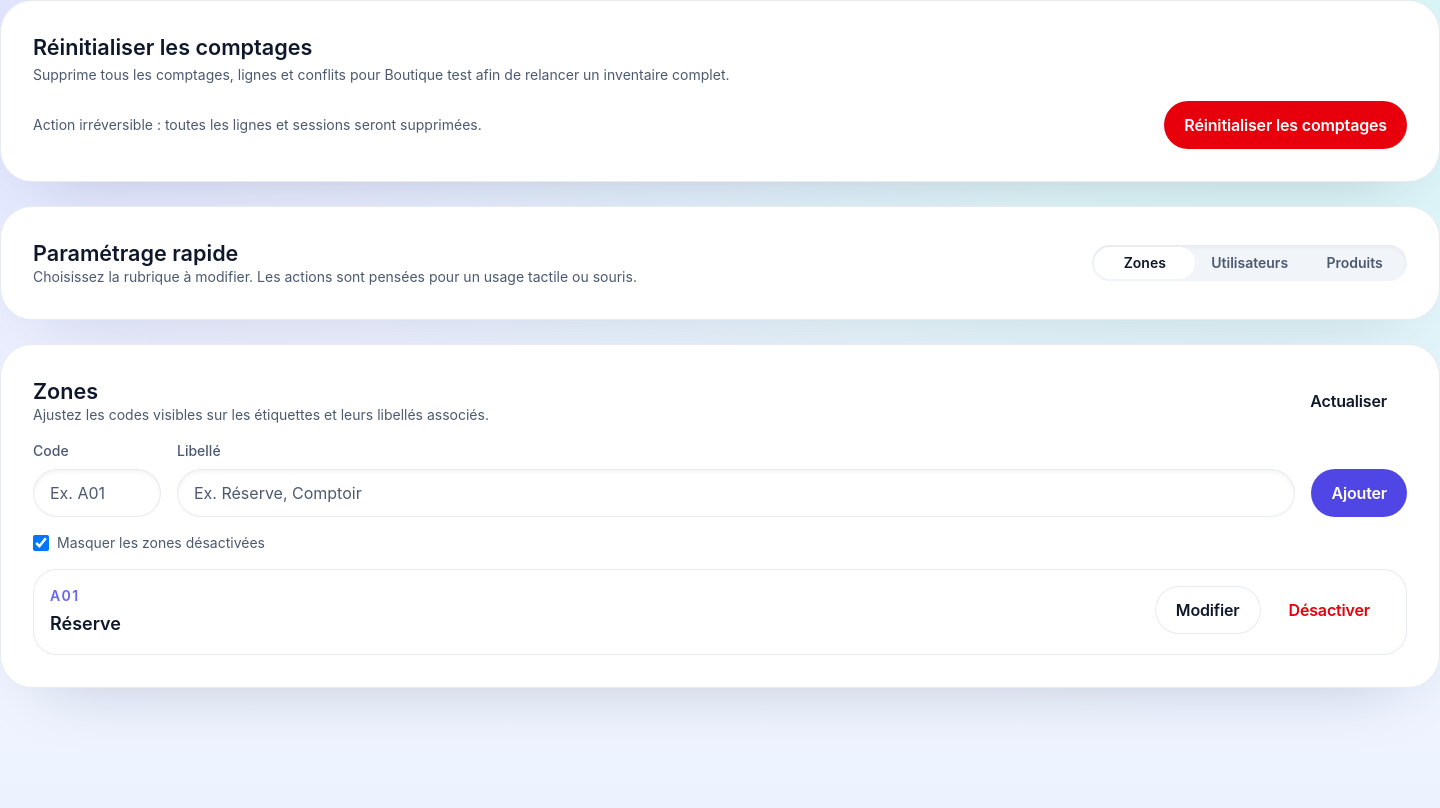
Test: AdminLocationsPage › verrouille le remplacement du catalogue quand des comptages existent
Click the tab "Produits" at (1355, 263), box [1304,247,1405,279]
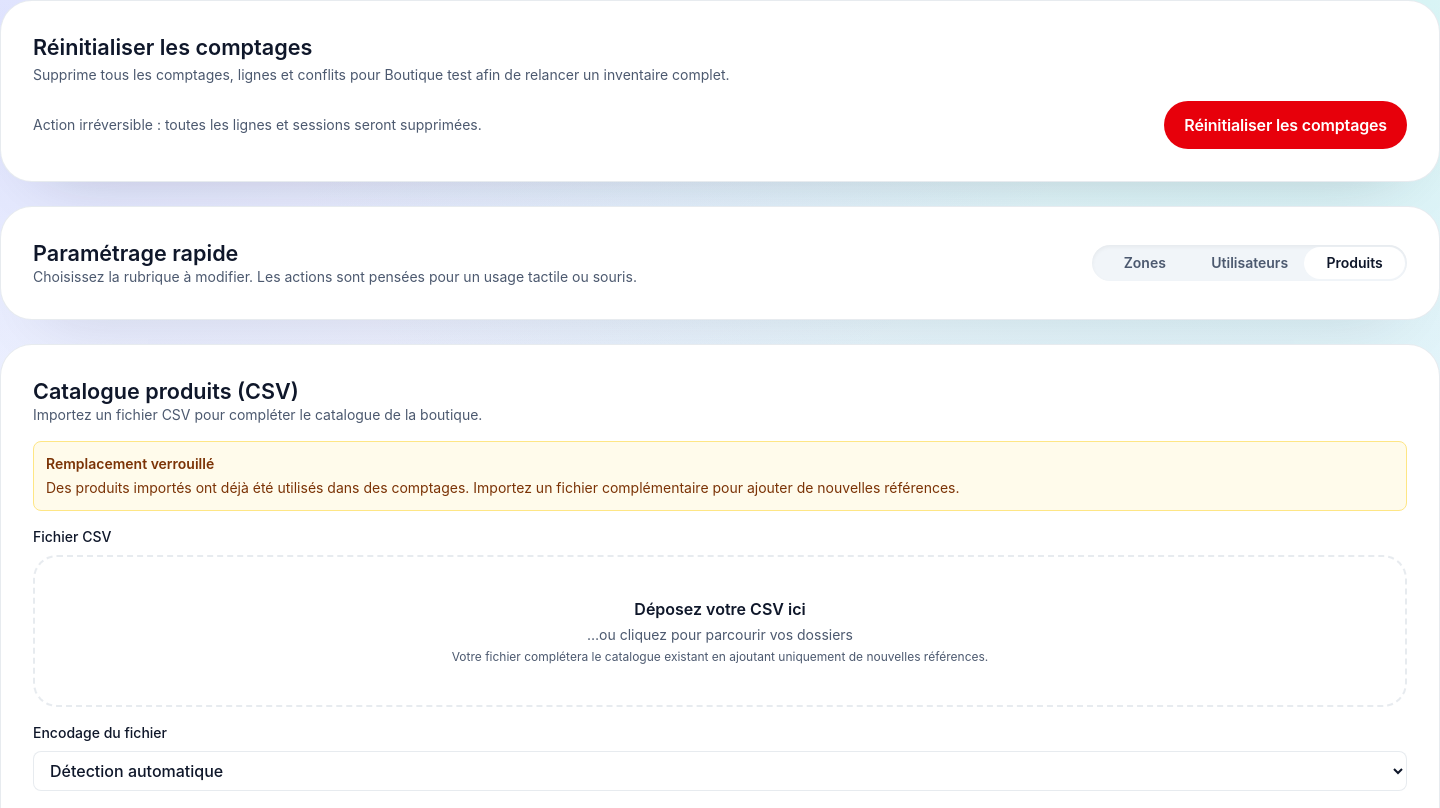
Now the text "Remplacement verrouillé" is shown, box [46,455,214,472]
